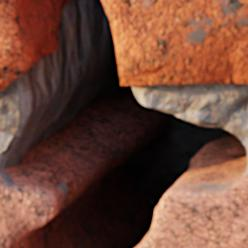broken_brick: (102, 0, 247, 85), (135, 165, 247, 247), (0, 168, 59, 247), (0, 0, 33, 90)
crack: (1, 0, 247, 247)
